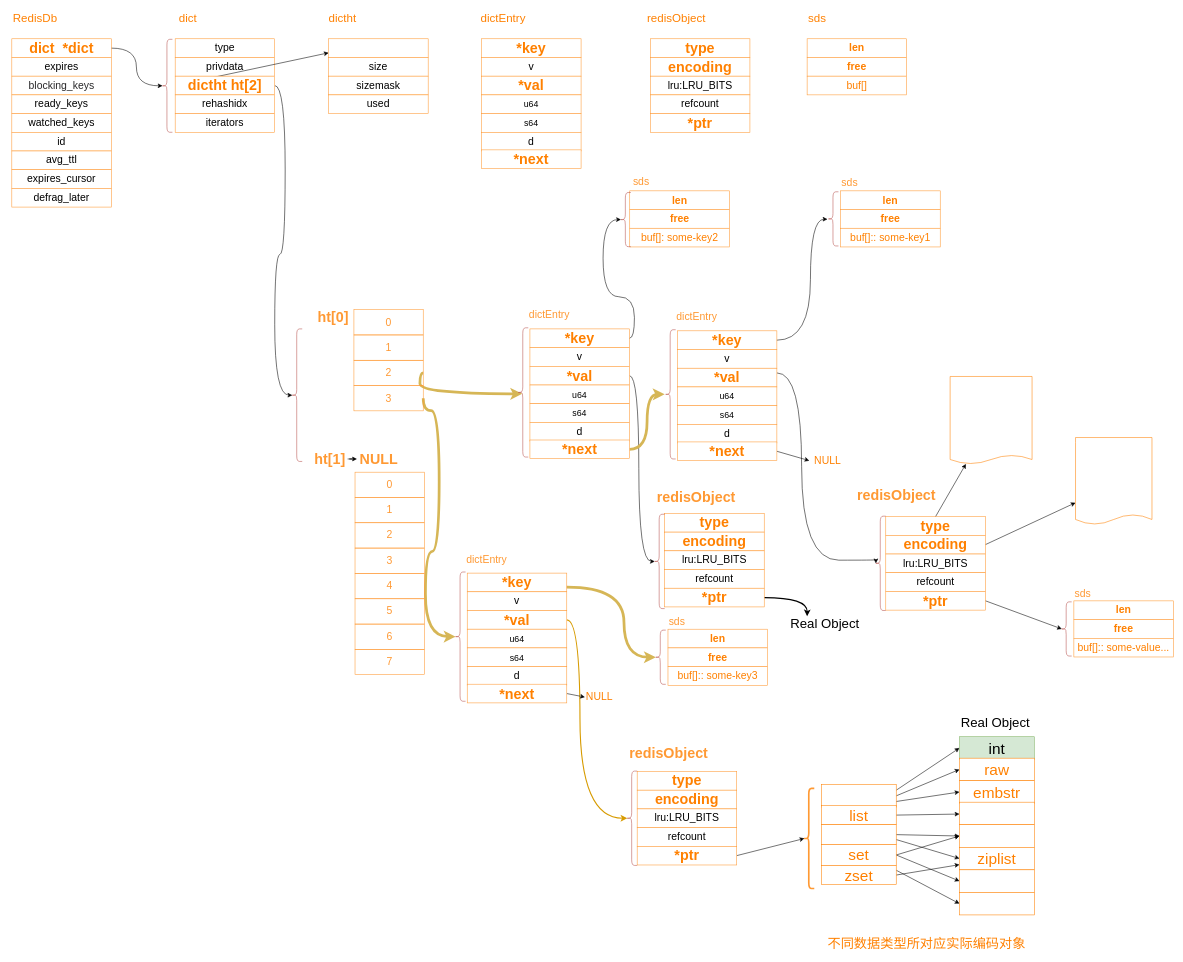
Image size: 1183x962. Some labels were removed from this diagram. The centre of each missing label's shape, as x and y in pixels:
**table: (x=378, y=47)
hash: (x=858, y=834)
hastable: (x=996, y=835)
intset: (x=996, y=880)
quicklist: (x=996, y=813)
raw embstr int ziplist ....: (x=1113, y=480)
skiplist: (x=996, y=903)
string: (x=858, y=795)
string list hash set zset: (x=991, y=420)
